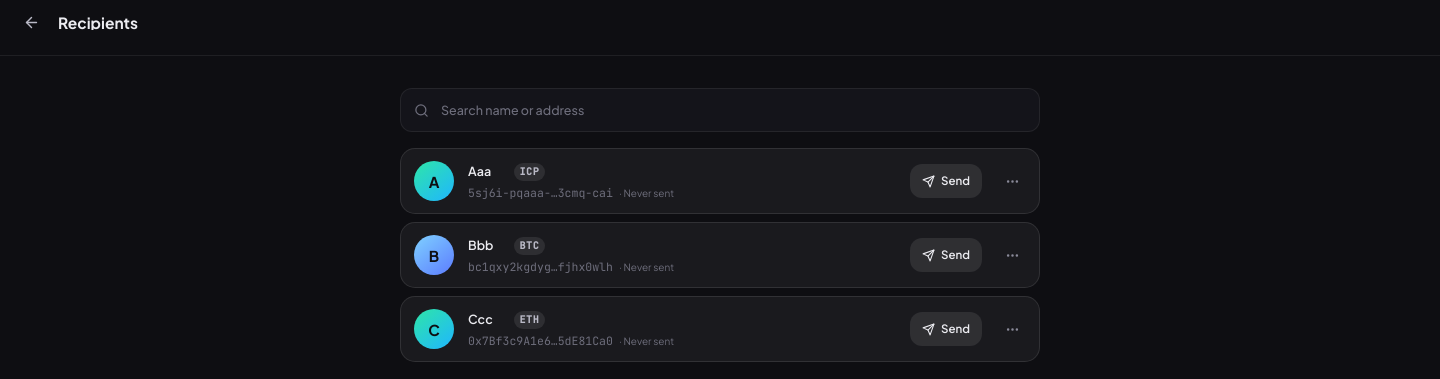
Test: WalletRecipients › a failed remove puts back only that row, where it was, and shows an error
What coordinates should you click on to do the following:
click the button with class "options" in the row of "5sj6i-pqaaa-…3cmq-cai"
I would click on:
 (1012, 181)
Its box is [1004, 174, 1020, 188].
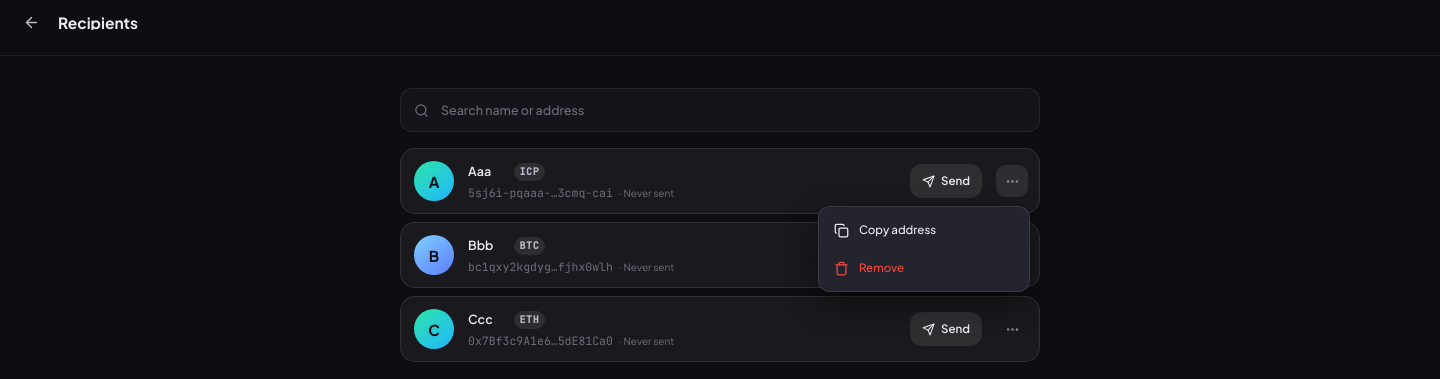
What coordinates should you click on to do the following:
click the menu item with class "danger"
I would click on:
 (869, 268)
Its box is [834, 260, 904, 276].
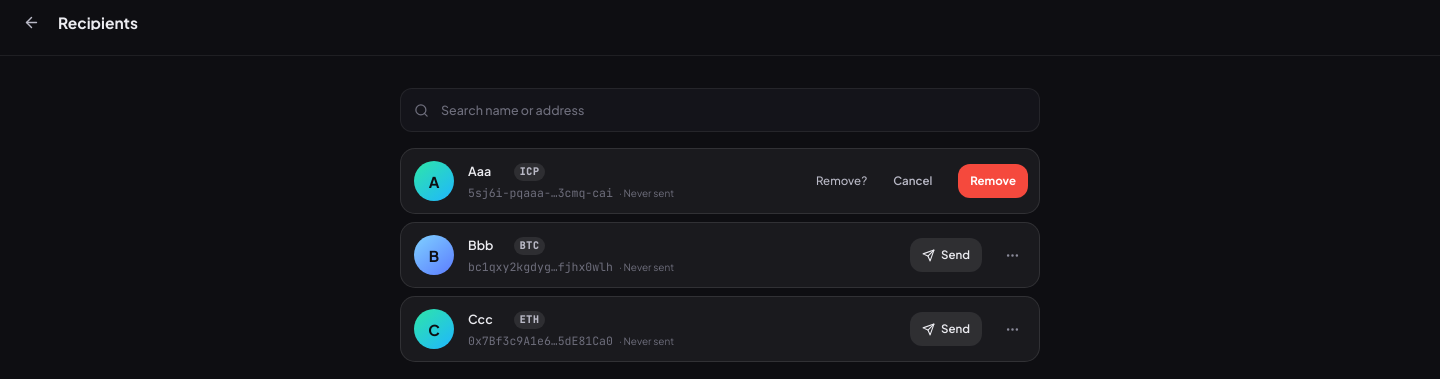
What coordinates should you click on to do the following:
click the button with class "remove"
I would click on:
 (993, 181)
Its box is [958, 164, 1028, 198].
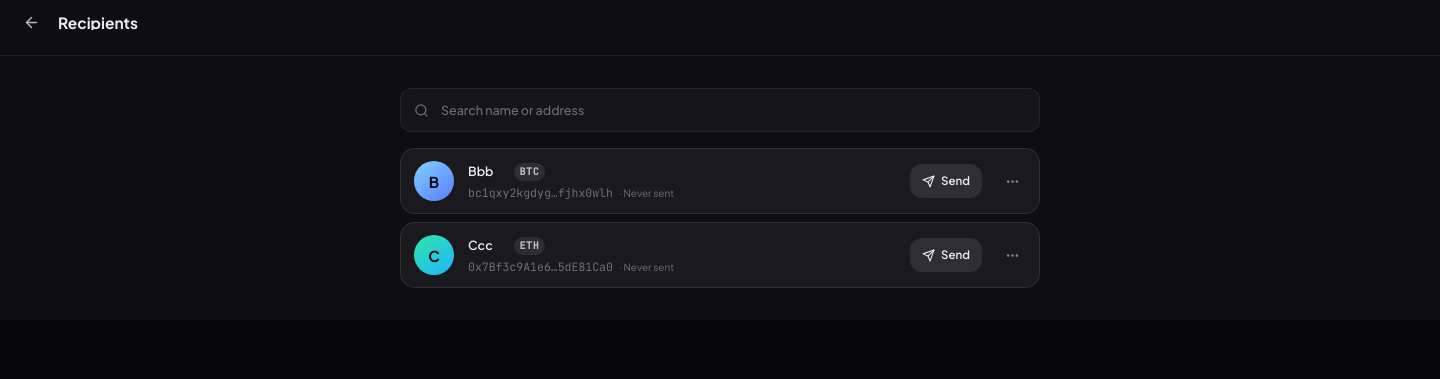
What coordinates should you click on to do the following:
click the button with class "options" in the row of "bc1qxy2kgdyg…fjhx0wlh"
I would click on:
 (1012, 181)
Its box is [1004, 174, 1020, 188].
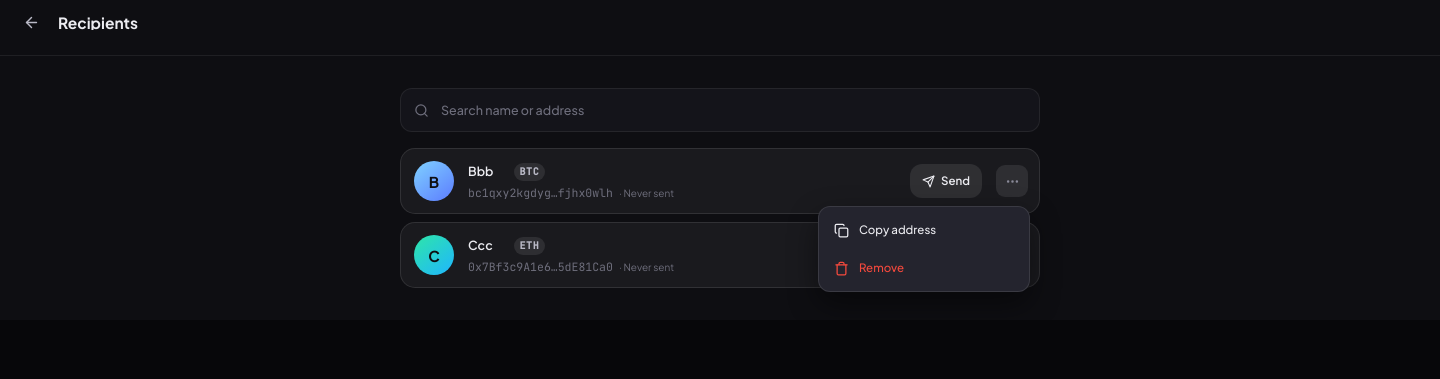
What coordinates should you click on to do the following:
click the menu item with class "danger"
I would click on:
 (869, 268)
Its box is [834, 260, 904, 276].
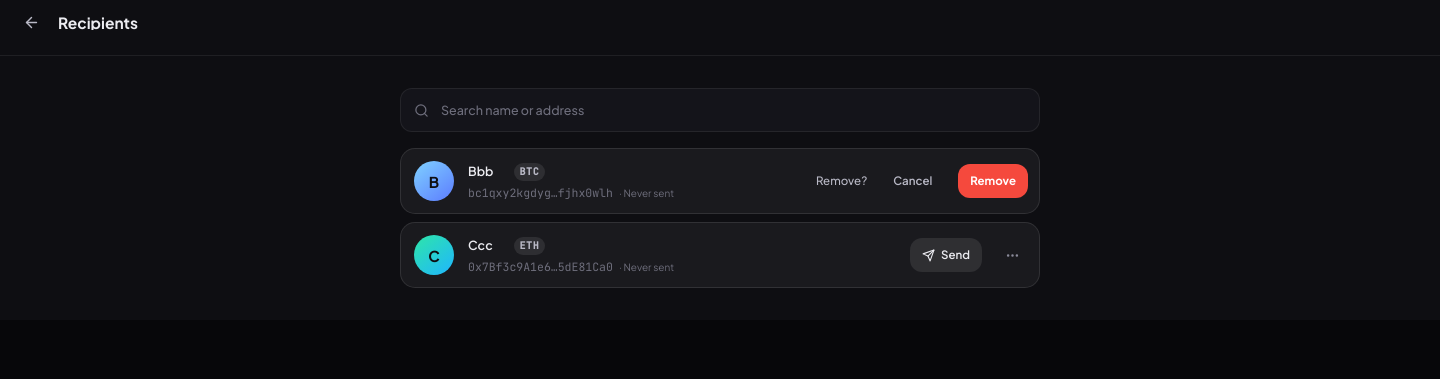
What coordinates should you click on to do the following:
click the button with class "remove"
I would click on:
 (993, 181)
Its box is [958, 164, 1028, 198].
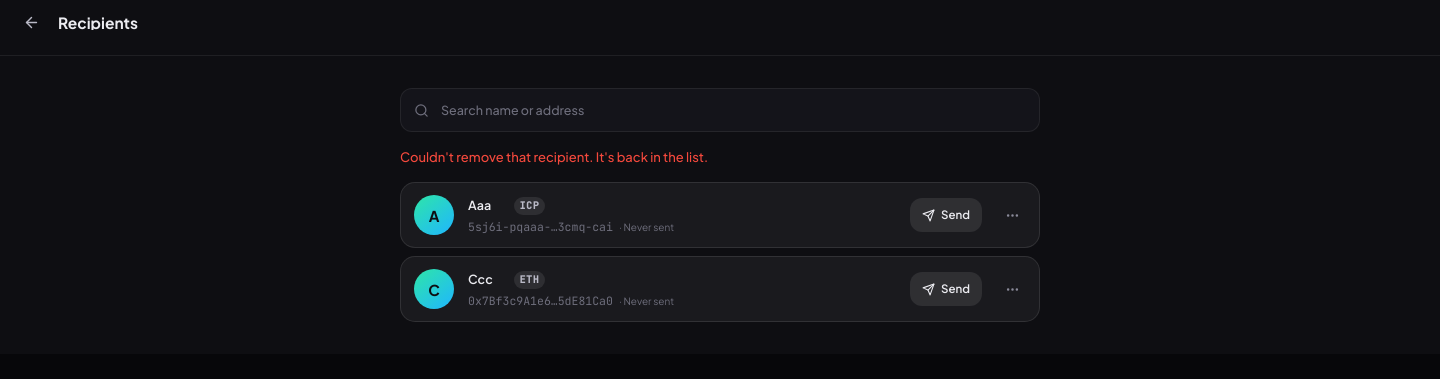
Now the message "Couldn't remove that recipient. It's back in the list." is shown, box [400, 149, 708, 165]
